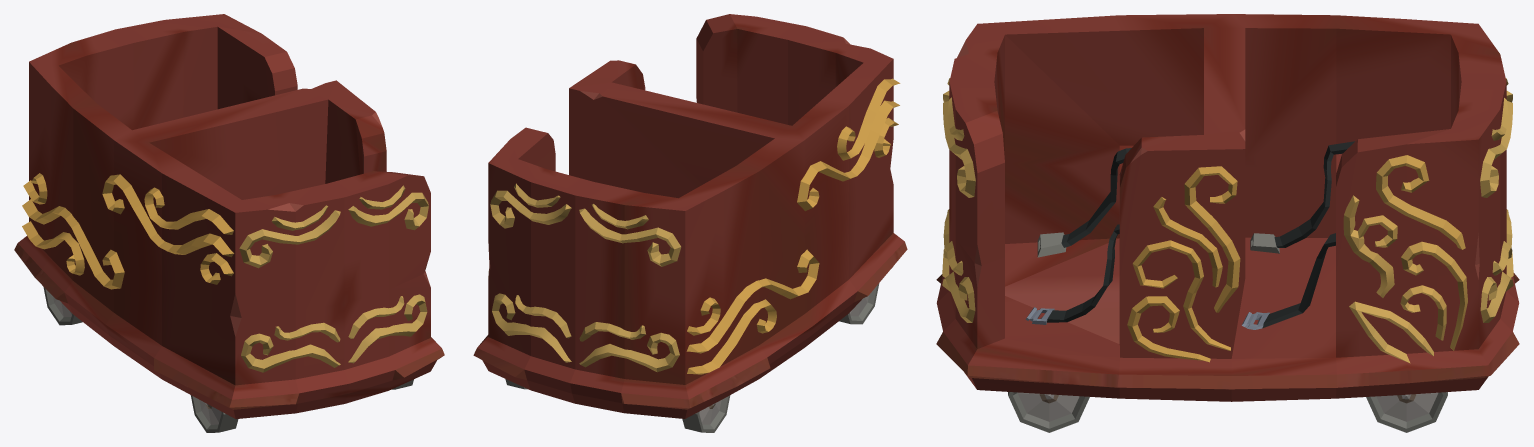
File: SM_Veh_Trolley_01.glb
3 views of the same model, side by side, from view 1: azimuth 30°, elevation 25°; view 2: azimuth 150°, elevation 25°; view 3: azimuth 270°, elevation 25° (orthographic). The views are drawn at different scales.
Visible parts, largest first — view 1: SM_Veh_Trolley_01; view 2: SM_Veh_Trolley_01; view 3: SM_Veh_Trolley_01.
Boxes of the visible parts, bbox=[...] form: SM_Veh_Trolley_01: bbox=[14, 14, 444, 432]; SM_Veh_Trolley_01: bbox=[473, 14, 907, 432]; SM_Veh_Trolley_01: bbox=[936, 14, 1519, 432].
Size of the model in its own units: 111 by 100 by 181.
1 material, 1 textured.
